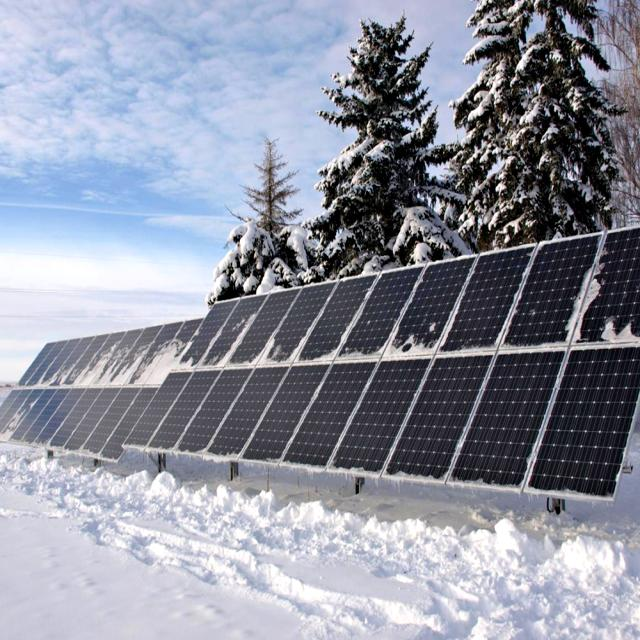panel: (240, 300, 290, 380), (294, 319, 367, 369), (572, 238, 604, 336), (384, 308, 442, 362), (50, 337, 104, 389), (114, 332, 164, 388), (174, 330, 236, 369), (1, 394, 40, 448), (598, 313, 636, 358)
